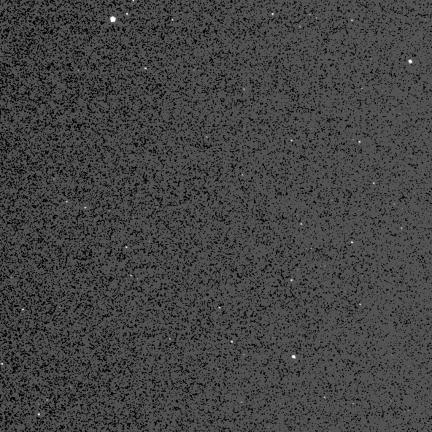blob: (111, 17, 116, 22), (292, 355, 296, 359), (358, 141, 362, 144), (409, 60, 412, 63), (231, 341, 234, 344)
